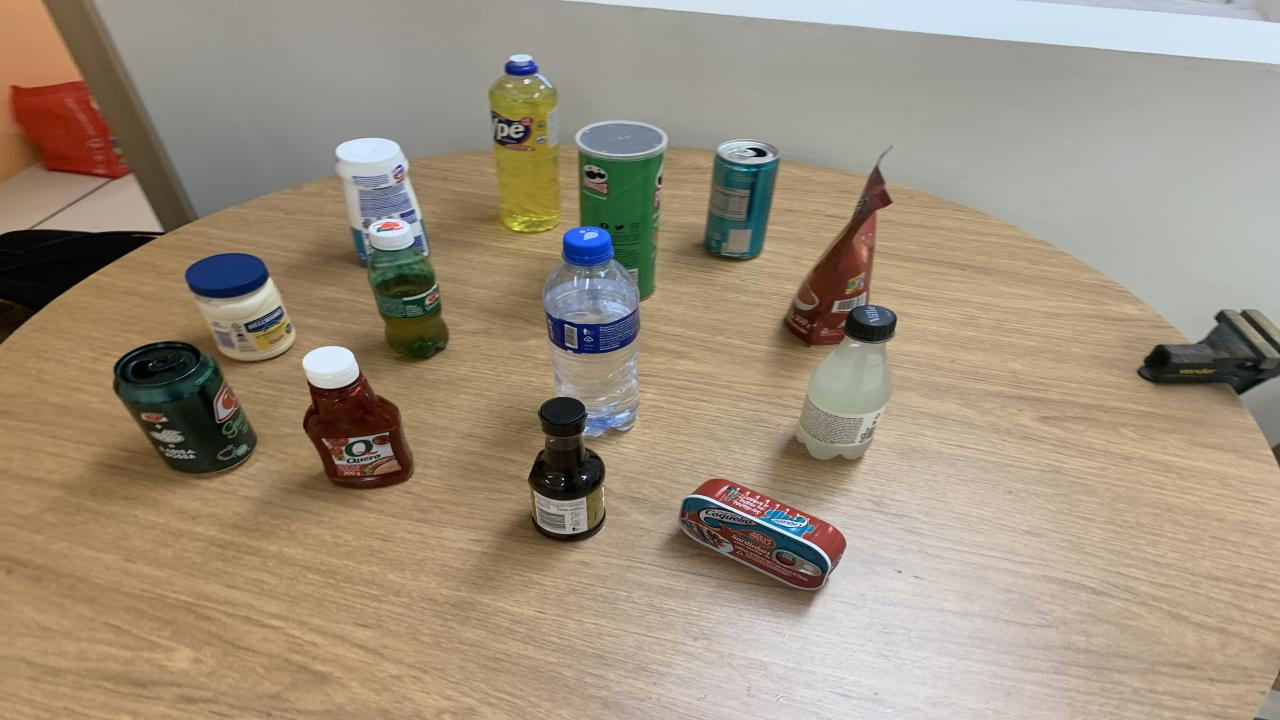Cleaner-Cleanup_Items: (335, 137, 430, 264)
Detergent-Cleanup_Items: (490, 54, 562, 232)
English_Sauce-Pantry_Items: (528, 398, 605, 540)
Guarana-Drinks: (368, 219, 448, 358), (368, 219, 415, 251)
Guarana_Can-Drinks: (112, 341, 258, 472)
Ketchup-Pantry_Items: (302, 347, 412, 488)
Mayonnaise-Pantry_Items: (185, 253, 295, 360)
Pringles-Snacks: (575, 120, 668, 298)
Soda-Drinks: (795, 306, 898, 459)
Tea-Drinks: (705, 139, 780, 259)
Tomato_Sauce-Pantry_Items: (785, 165, 892, 345)
Tuna_Can-Pantry_Items: (680, 478, 845, 591)
Water_Bottle-Drinks: (542, 227, 640, 437)
